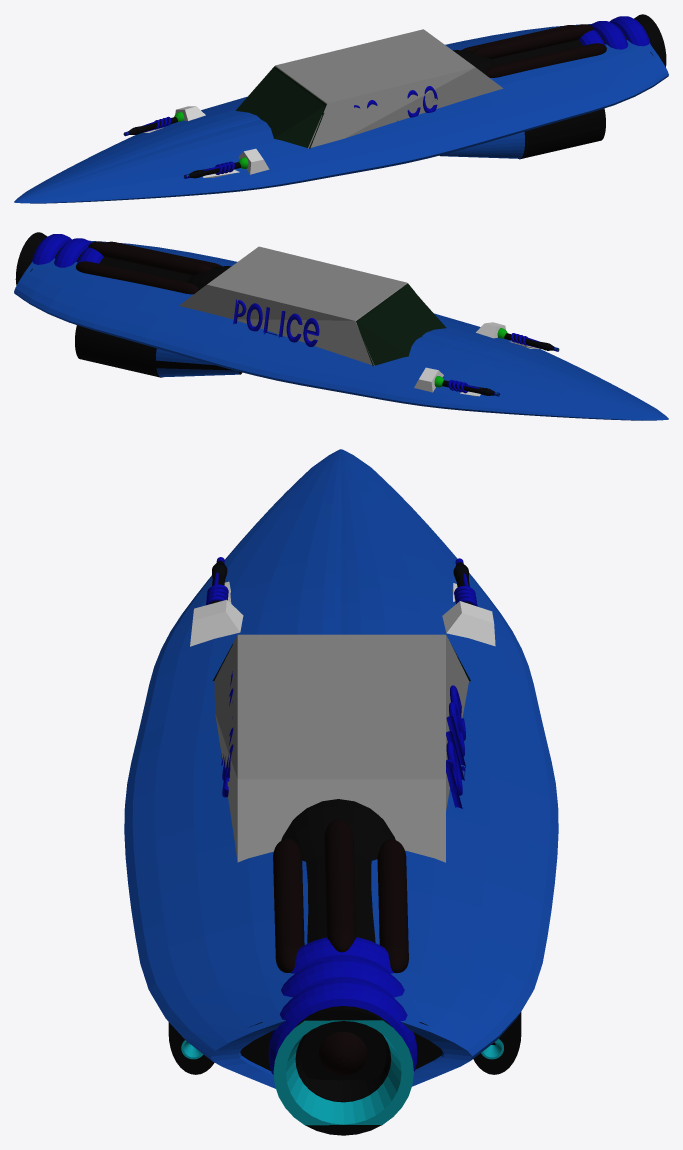
File: policeship.obj
The picture shows the model from 3 angles, top to bottom: view 1: azimuth 30°, elevation 25°; view 2: azimuth 150°, elevation 25°; view 3: azimuth 270°, elevation 25°; orthographic projection. The views are drawn at different scales.
Parts seen in each view (by area): view 1: Cube_Cube.001; view 2: Cube_Cube.001; view 3: Cube_Cube.001.
Part boxes in pixels (bbox=[...]): Cube_Cube.001: bbox=[14, 14, 668, 203]; Cube_Cube.001: bbox=[14, 232, 668, 420]; Cube_Cube.001: bbox=[124, 449, 558, 1135].
Bounding box in the file's own units: 15.92 × 2.22 × 4.71.
